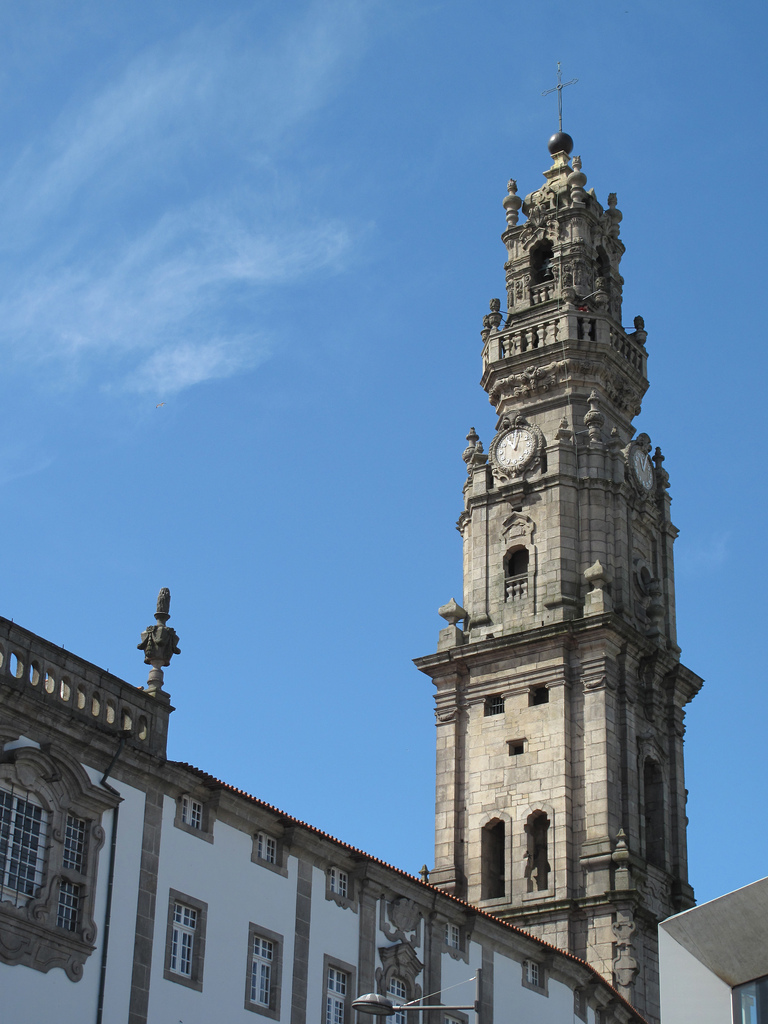clerigos: (410, 55, 707, 1023)
